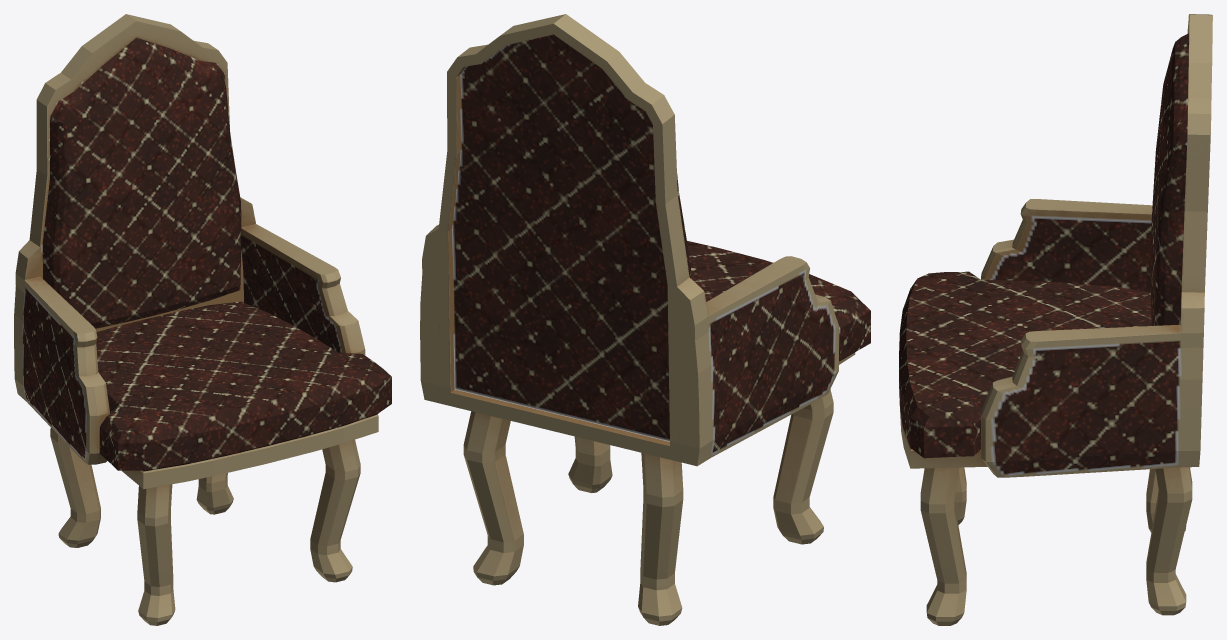
The model's file is Chair.fbx.
3 renders of one model, left to right at view 1: azimuth 30°, elevation 25°; view 2: azimuth 150°, elevation 25°; view 3: azimuth 270°, elevation 25°, orthographic. The views are drawn at different scales.
Visible parts, largest first — view 1: Chair; view 2: Chair; view 3: Chair.
Boxes of the visible parts, x1=… form: Chair: x1=14, y1=14, x2=391, y2=625; Chair: x1=420, y1=14, x2=870, y2=625; Chair: x1=899, y1=14, x2=1212, y2=625.
Size of the model in its own units: 132 by 228 by 116.
1 material, 1 textured.
